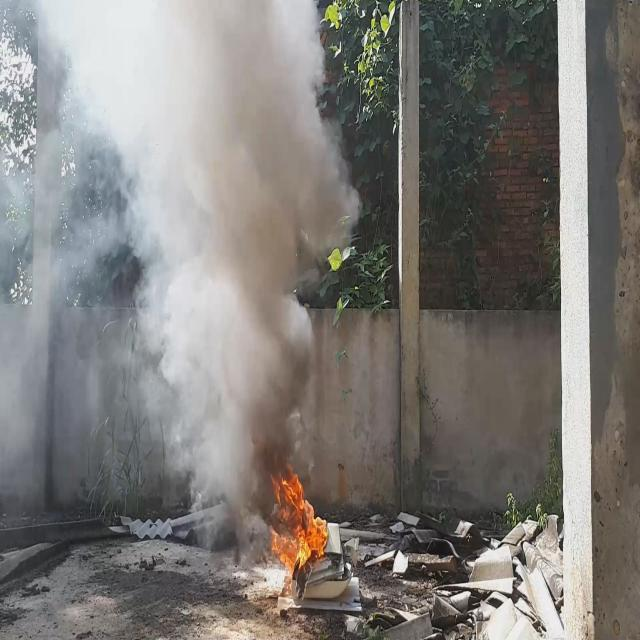Fire: (268, 464, 332, 584)
Smoke: (0, 0, 364, 534)
